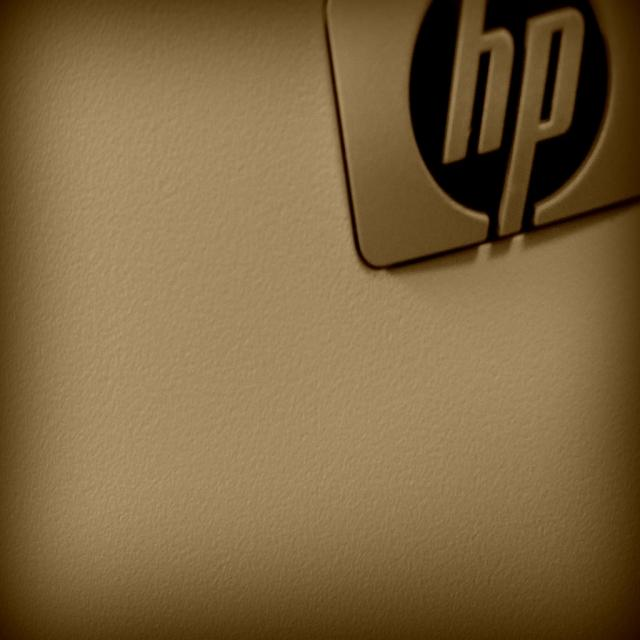HP: (315, 2, 640, 289)
